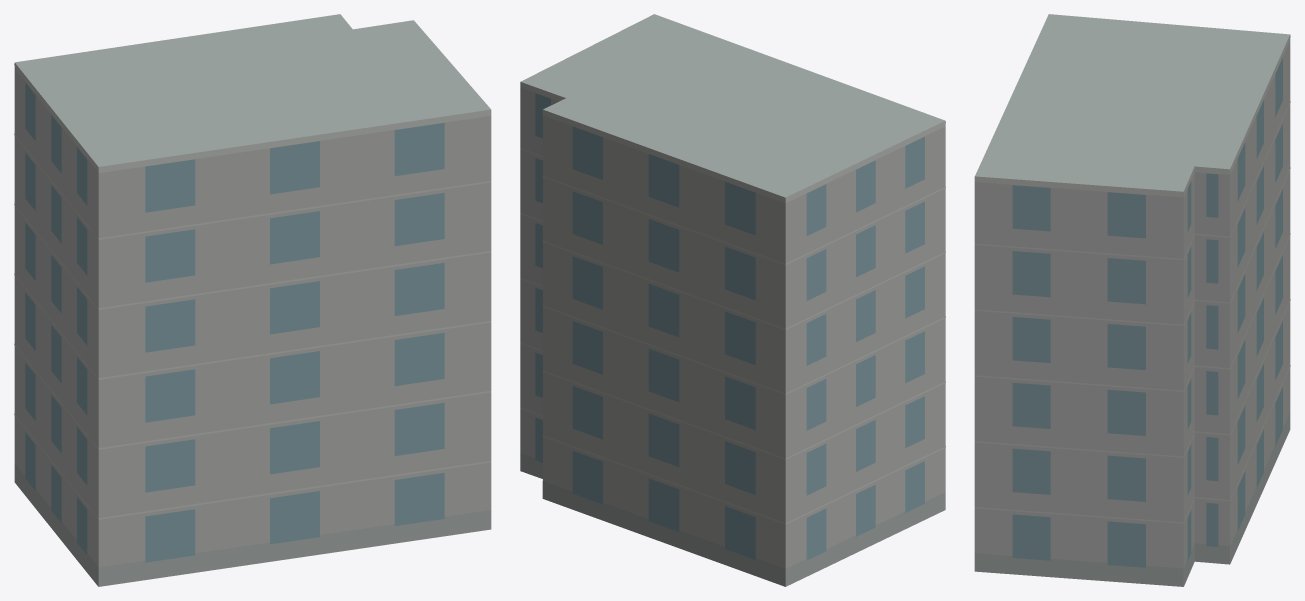
Rendered from survey-upis-32924846.glb.
The picture shows the model from 3 angles, left to right: view 1: azimuth 30°, elevation 25°; view 2: azimuth 150°, elevation 25°; view 3: azimuth 270°, elevation 25°; orthographic projection. The views are drawn at different scales.
Parts seen in each view (by area): view 1: survey-upis-32924846.tmp; view 2: survey-upis-32924846.tmp; view 3: survey-upis-32924846.tmp.
Part boxes in pixels (x1,y1,x2,y2): survey-upis-32924846.tmp: [14, 14, 491, 586]; survey-upis-32924846.tmp: [520, 14, 945, 586]; survey-upis-32924846.tmp: [974, 14, 1290, 586].
Size of the model in its own units: 15.84 by 16.4 by 11.89.
